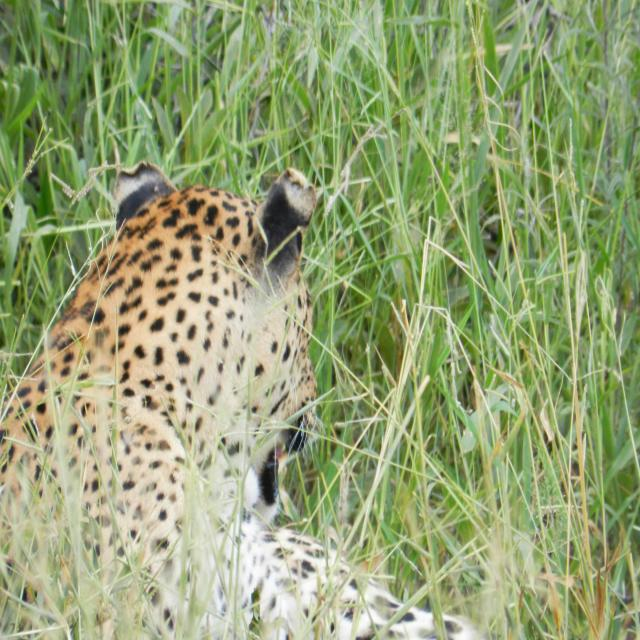Leopard: (17, 161, 350, 635)
